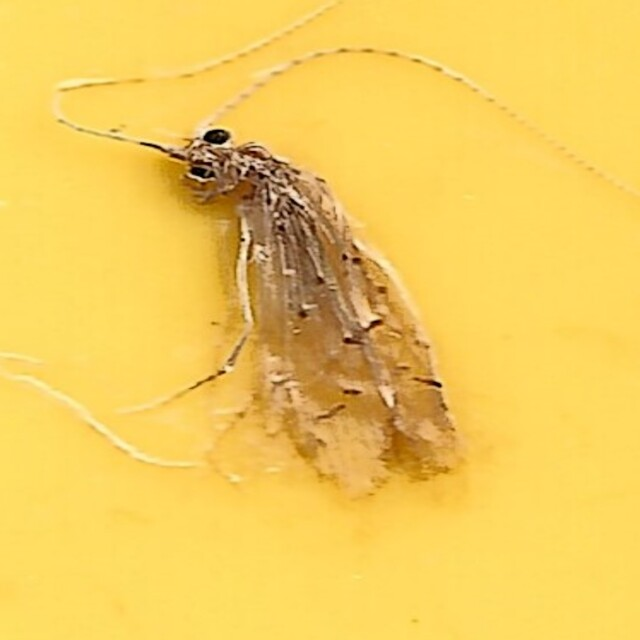Plecoptera: (171, 125, 469, 515)
